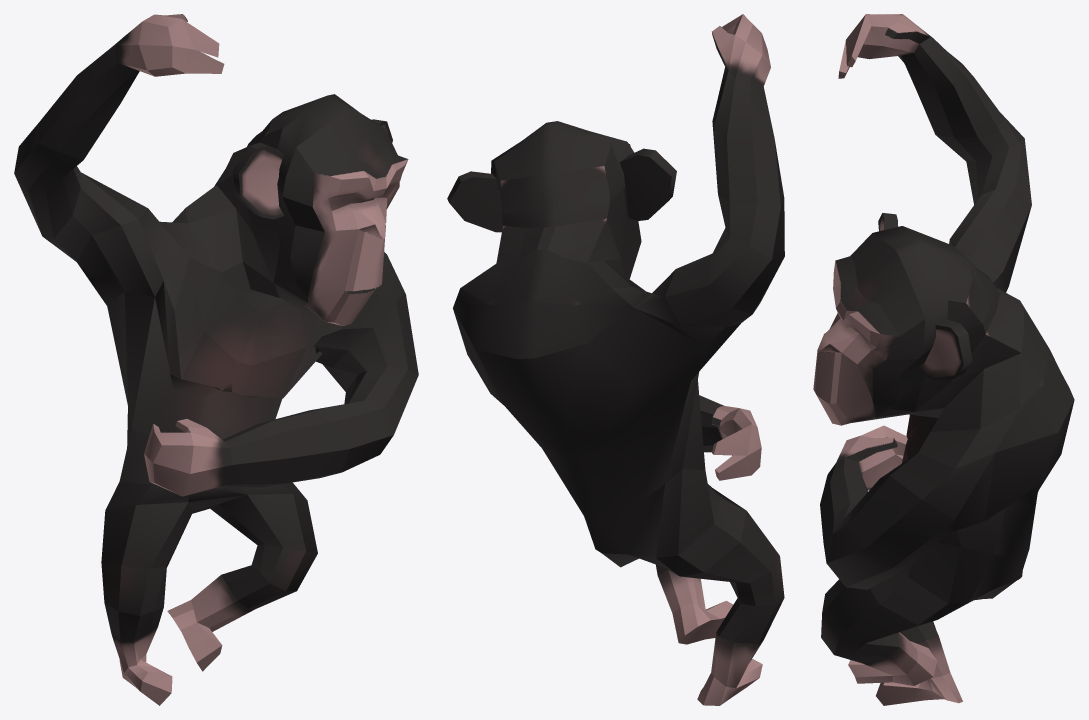
Rendered from Chimp_Vine.fbx.
3 renders of one model, left to right at view 1: azimuth 30°, elevation 25°; view 2: azimuth 150°, elevation 25°; view 3: azimuth 270°, elevation 25°, orthographic. The views are drawn at different scales.
Visible parts, largest first — view 1: enemy_chimphead003; view 2: enemy_chimphead003; view 3: enemy_chimphead003.
Boxes of the visible parts, x1,y1,x2,y2 form: enemy_chimphead003: [14, 14, 418, 705]; enemy_chimphead003: [447, 14, 784, 705]; enemy_chimphead003: [813, 14, 1074, 705].
Bounding box in the file's own units: 580 × 1067 × 361.
